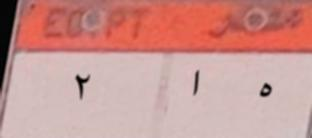2: (73, 70, 94, 104)
alif: (184, 66, 205, 100)
haa: (250, 78, 278, 102)
